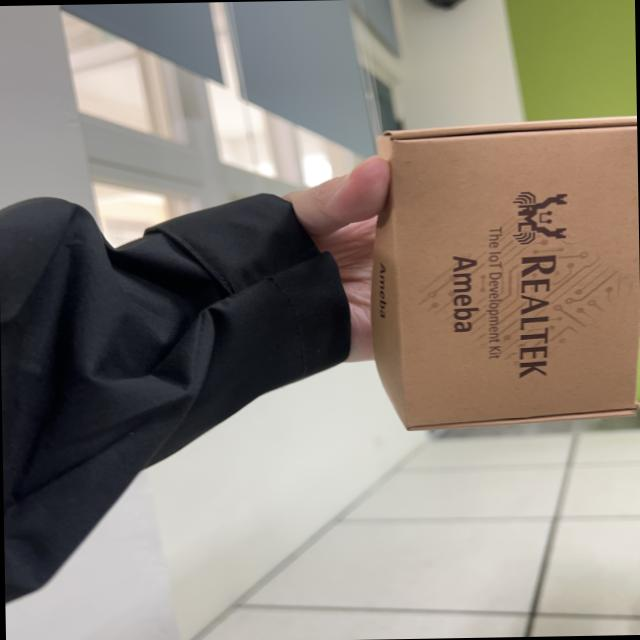box: (370, 116, 640, 479)
